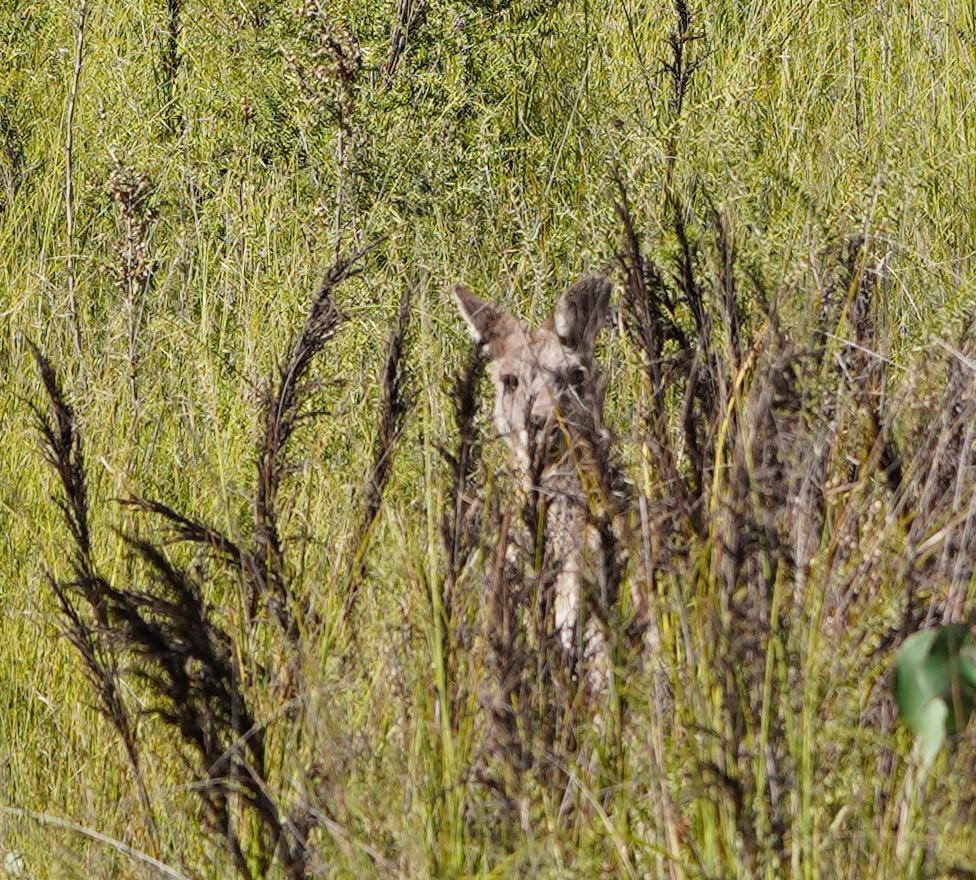Swamp wallaby: (447, 269, 653, 750)
